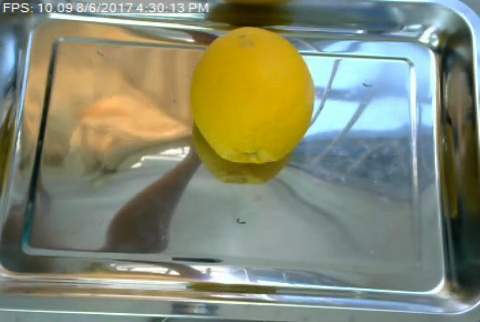Orange: (190, 27, 316, 165)
